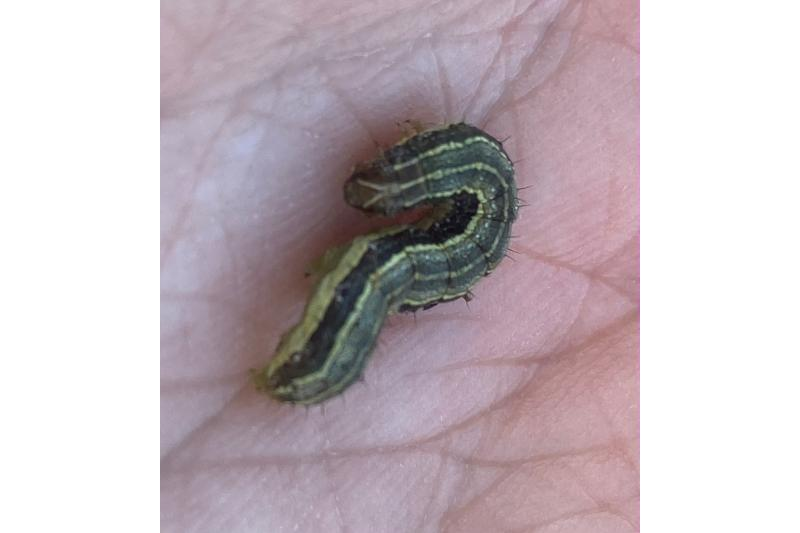fall-armyworm: (252, 124, 522, 410)
